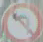Don't turn left: (4, 2, 35, 41)
